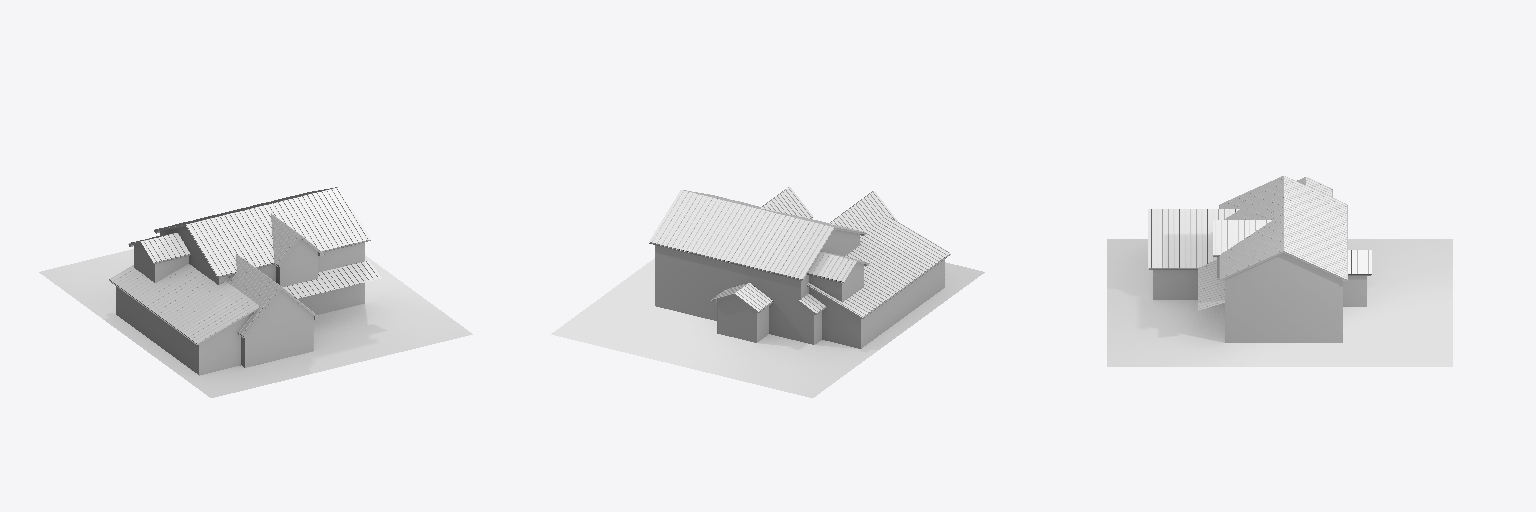
3 views of the same model, side by side, from view 1: azimuth 30°, elevation 25°; view 2: azimuth 150°, elevation 25°; view 3: azimuth 270°, elevation 25° (orthographic).
Parts seen in each view (by area): view 1: object_1.002, object_2; view 2: object_1.002, object_2; view 3: object_1.002, object_2.
Part boxes in pixels (left/top/right/bottom): object_1.002: left=109, top=187, right=381, bottom=375; object_2: left=39, top=249, right=472, bottom=397; object_1.002: left=649, top=187, right=950, bottom=348; object_2: left=551, top=258, right=984, bottom=397; object_1.002: left=1148, top=176, right=1371, bottom=342; object_2: left=1107, top=239, right=1452, bottom=366.
Bounding box in the file's own units: 81.06 × 27.9 × 92.4.
Materials: 2 (2 with a texture image).